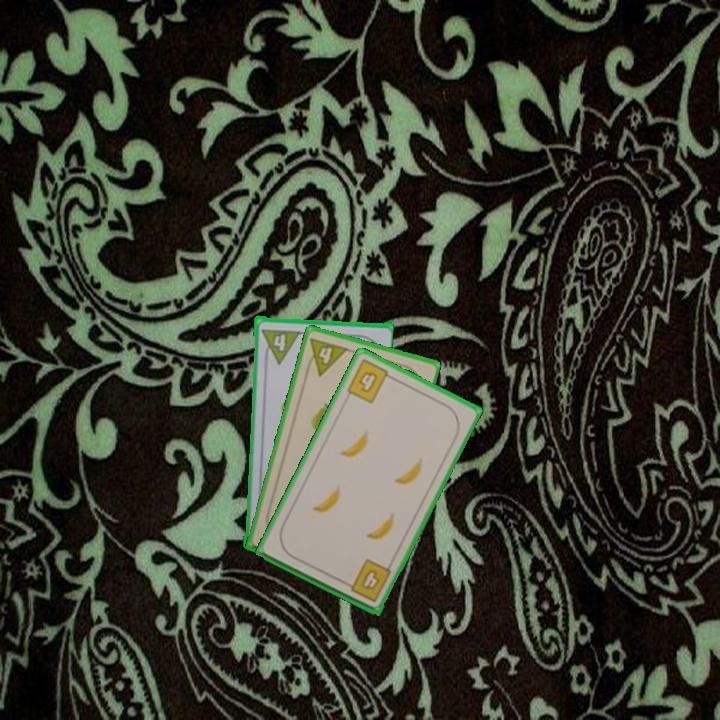4b: (343, 356, 397, 406), (340, 555, 394, 605)
4p: (302, 334, 351, 378), (269, 329, 302, 365)
